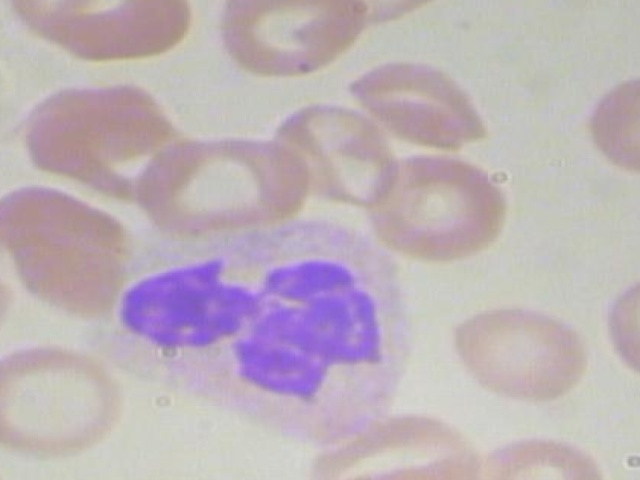RBC: (122, 131, 317, 238), (444, 282, 595, 415), (353, 146, 513, 270), (0, 333, 134, 464), (339, 54, 505, 153), (207, 0, 374, 83), (307, 406, 482, 480), (462, 424, 615, 480), (584, 50, 640, 184), (602, 256, 640, 390), (0, 252, 13, 357)
WBC: (90, 222, 443, 450)
